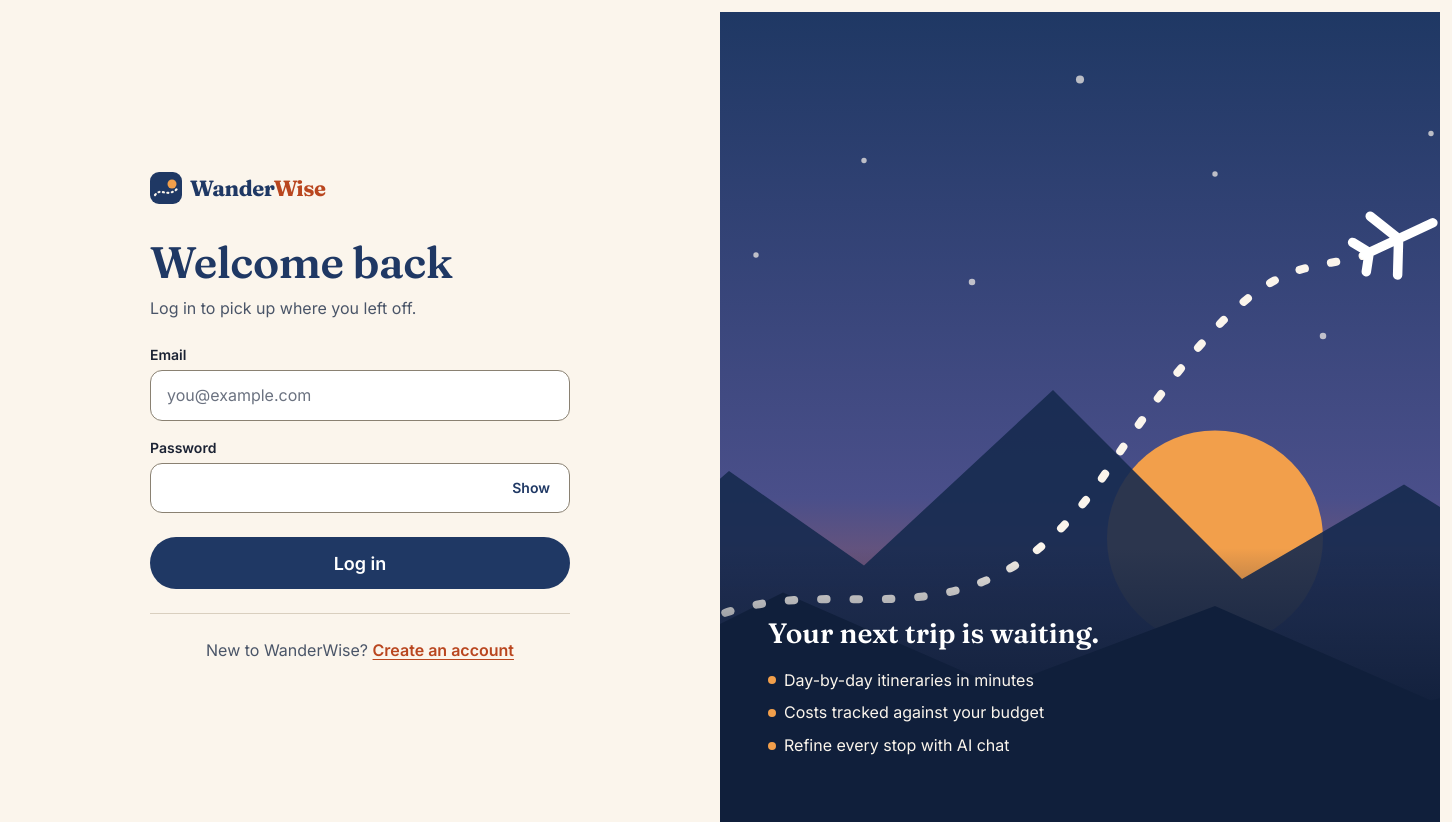
Scenario: Login page › keeps typed values and shows the server error on bad credentials
In the field labelled "Email": point(360, 395) [150,370,570,421], type "ada@example.com"
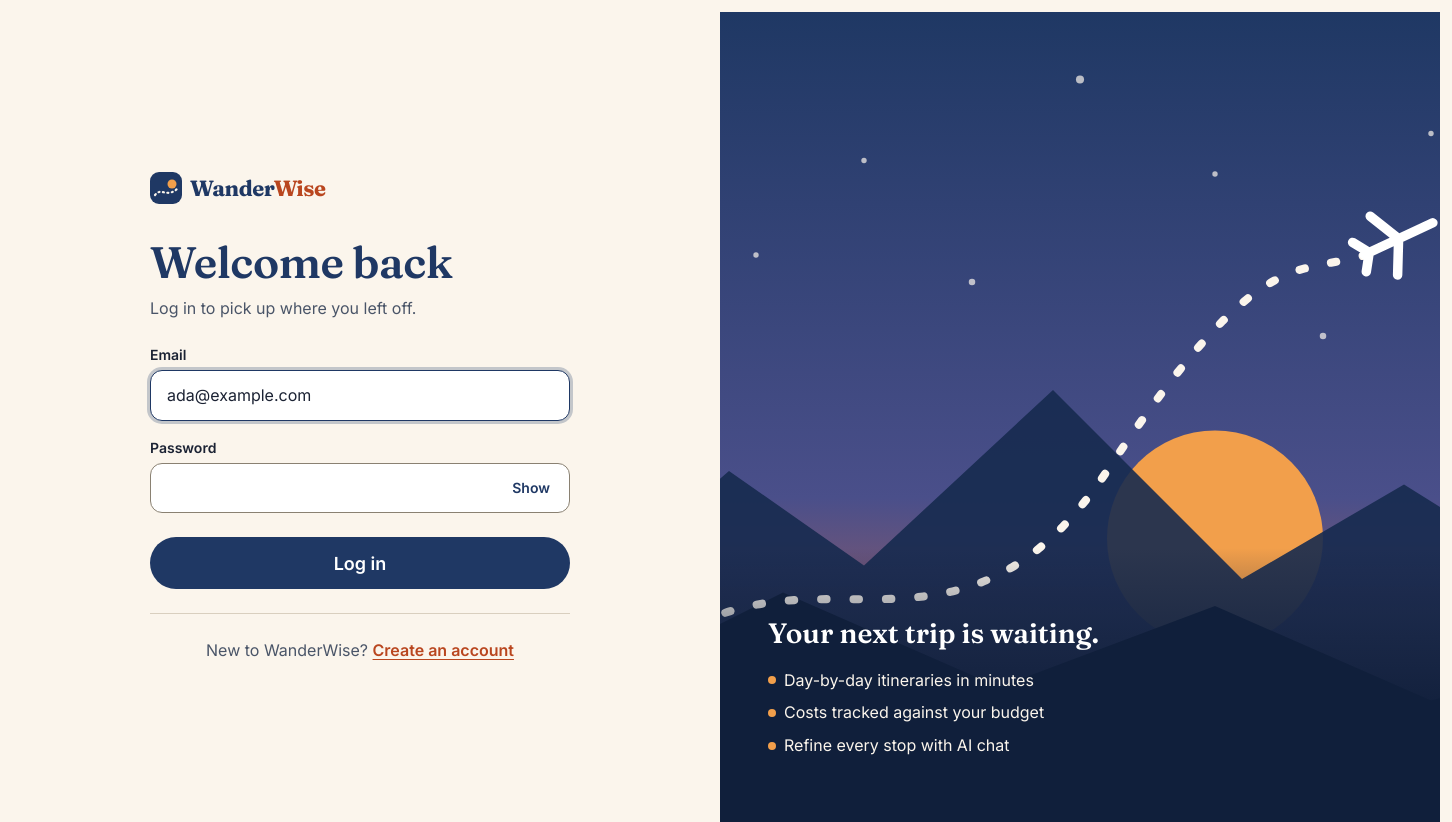
In the password field labelled "Password": point(360, 488) [150,462,570,513], type "wrong-password"
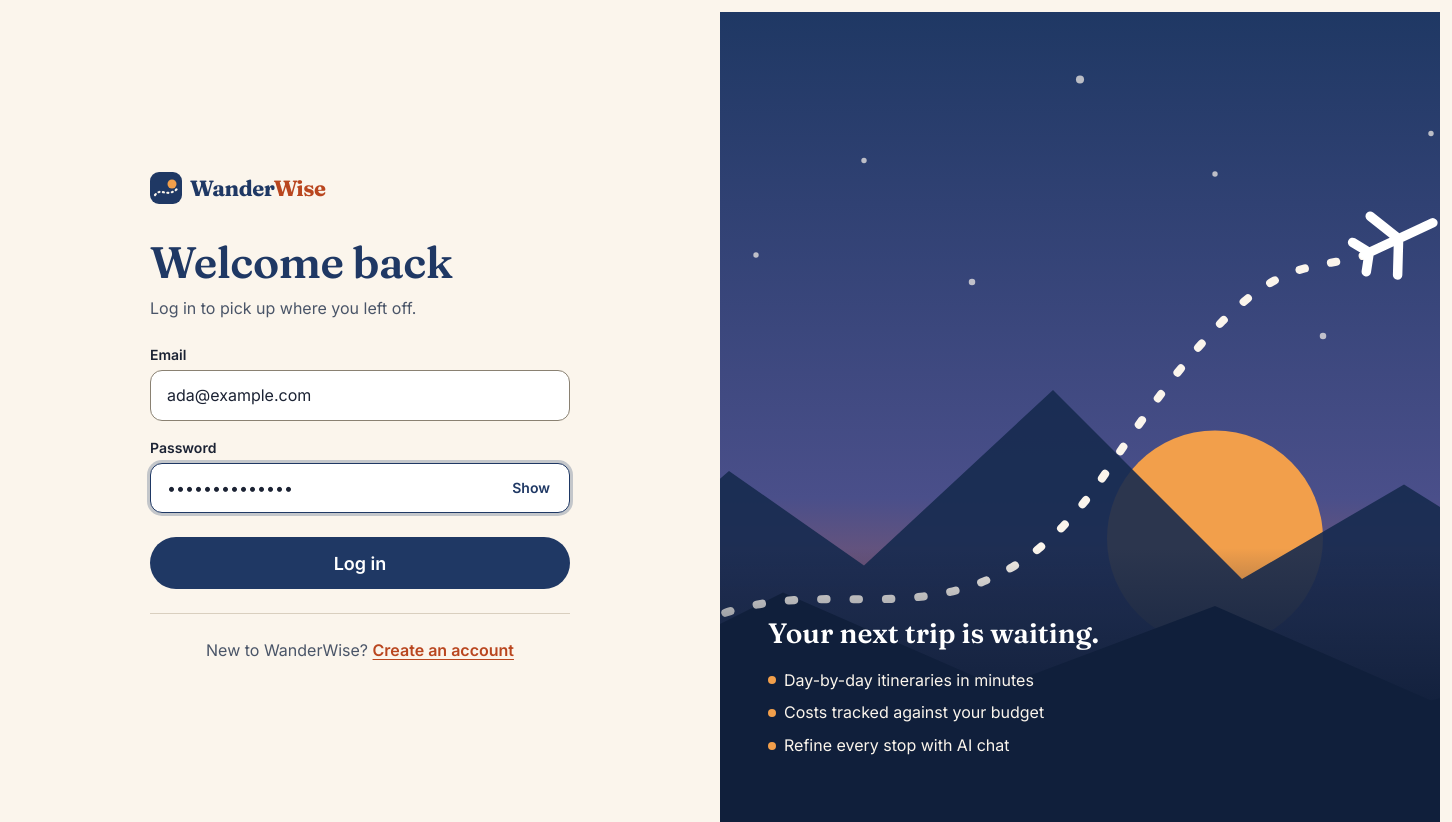
Click the button "Log in": point(360, 563) [150,537,570,589]
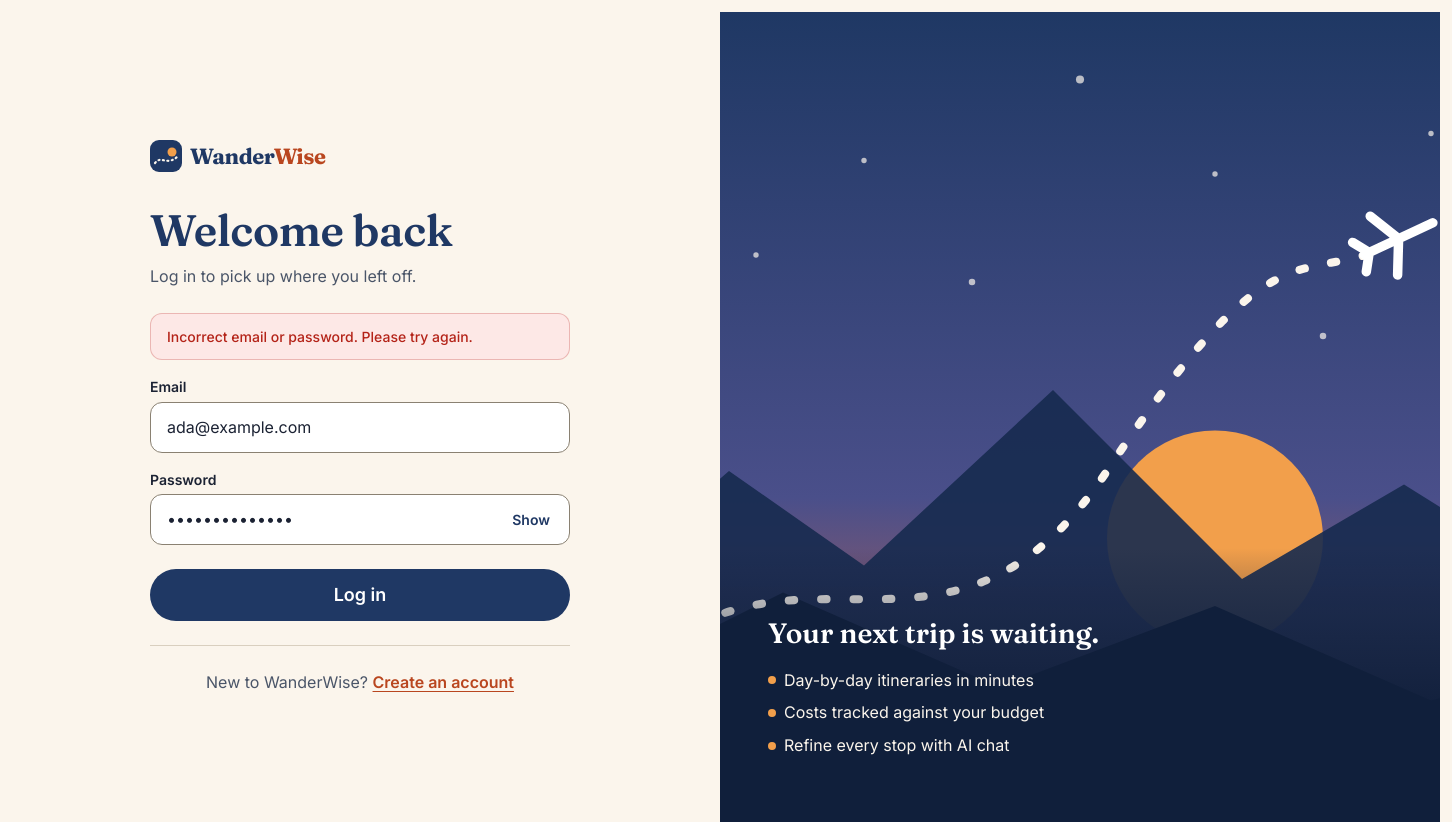
Result: the message shows "Incorrect email or password" at [167,328,473,344]
